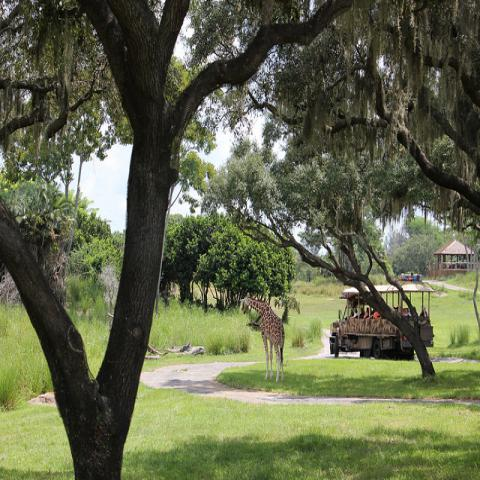truck: (328, 283, 436, 360)
